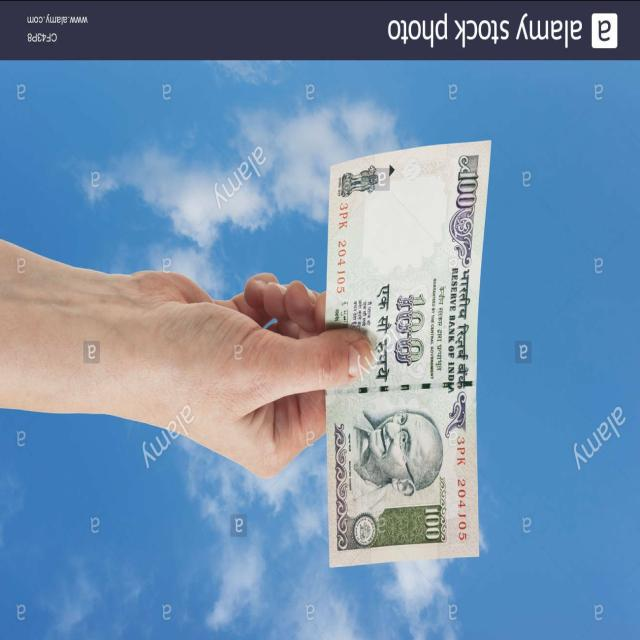100IndianRupees: (326, 139, 492, 568)
